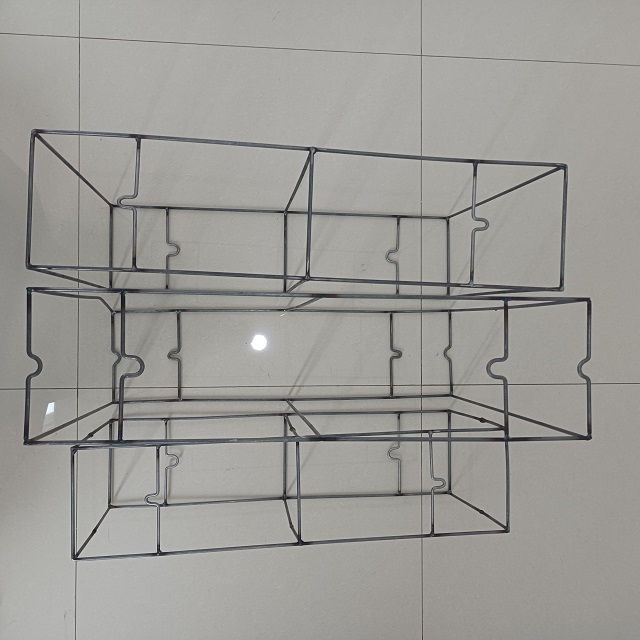curvedhole: (481, 345, 517, 389), (573, 345, 597, 387), (113, 184, 141, 218), (439, 334, 461, 373), (118, 350, 143, 384), (162, 340, 187, 374), (161, 232, 184, 266), (20, 350, 43, 384), (420, 472, 449, 498), (466, 213, 493, 239), (382, 238, 403, 271), (140, 486, 163, 516), (383, 440, 407, 468), (160, 445, 181, 476), (102, 342, 122, 371), (388, 338, 406, 369)
